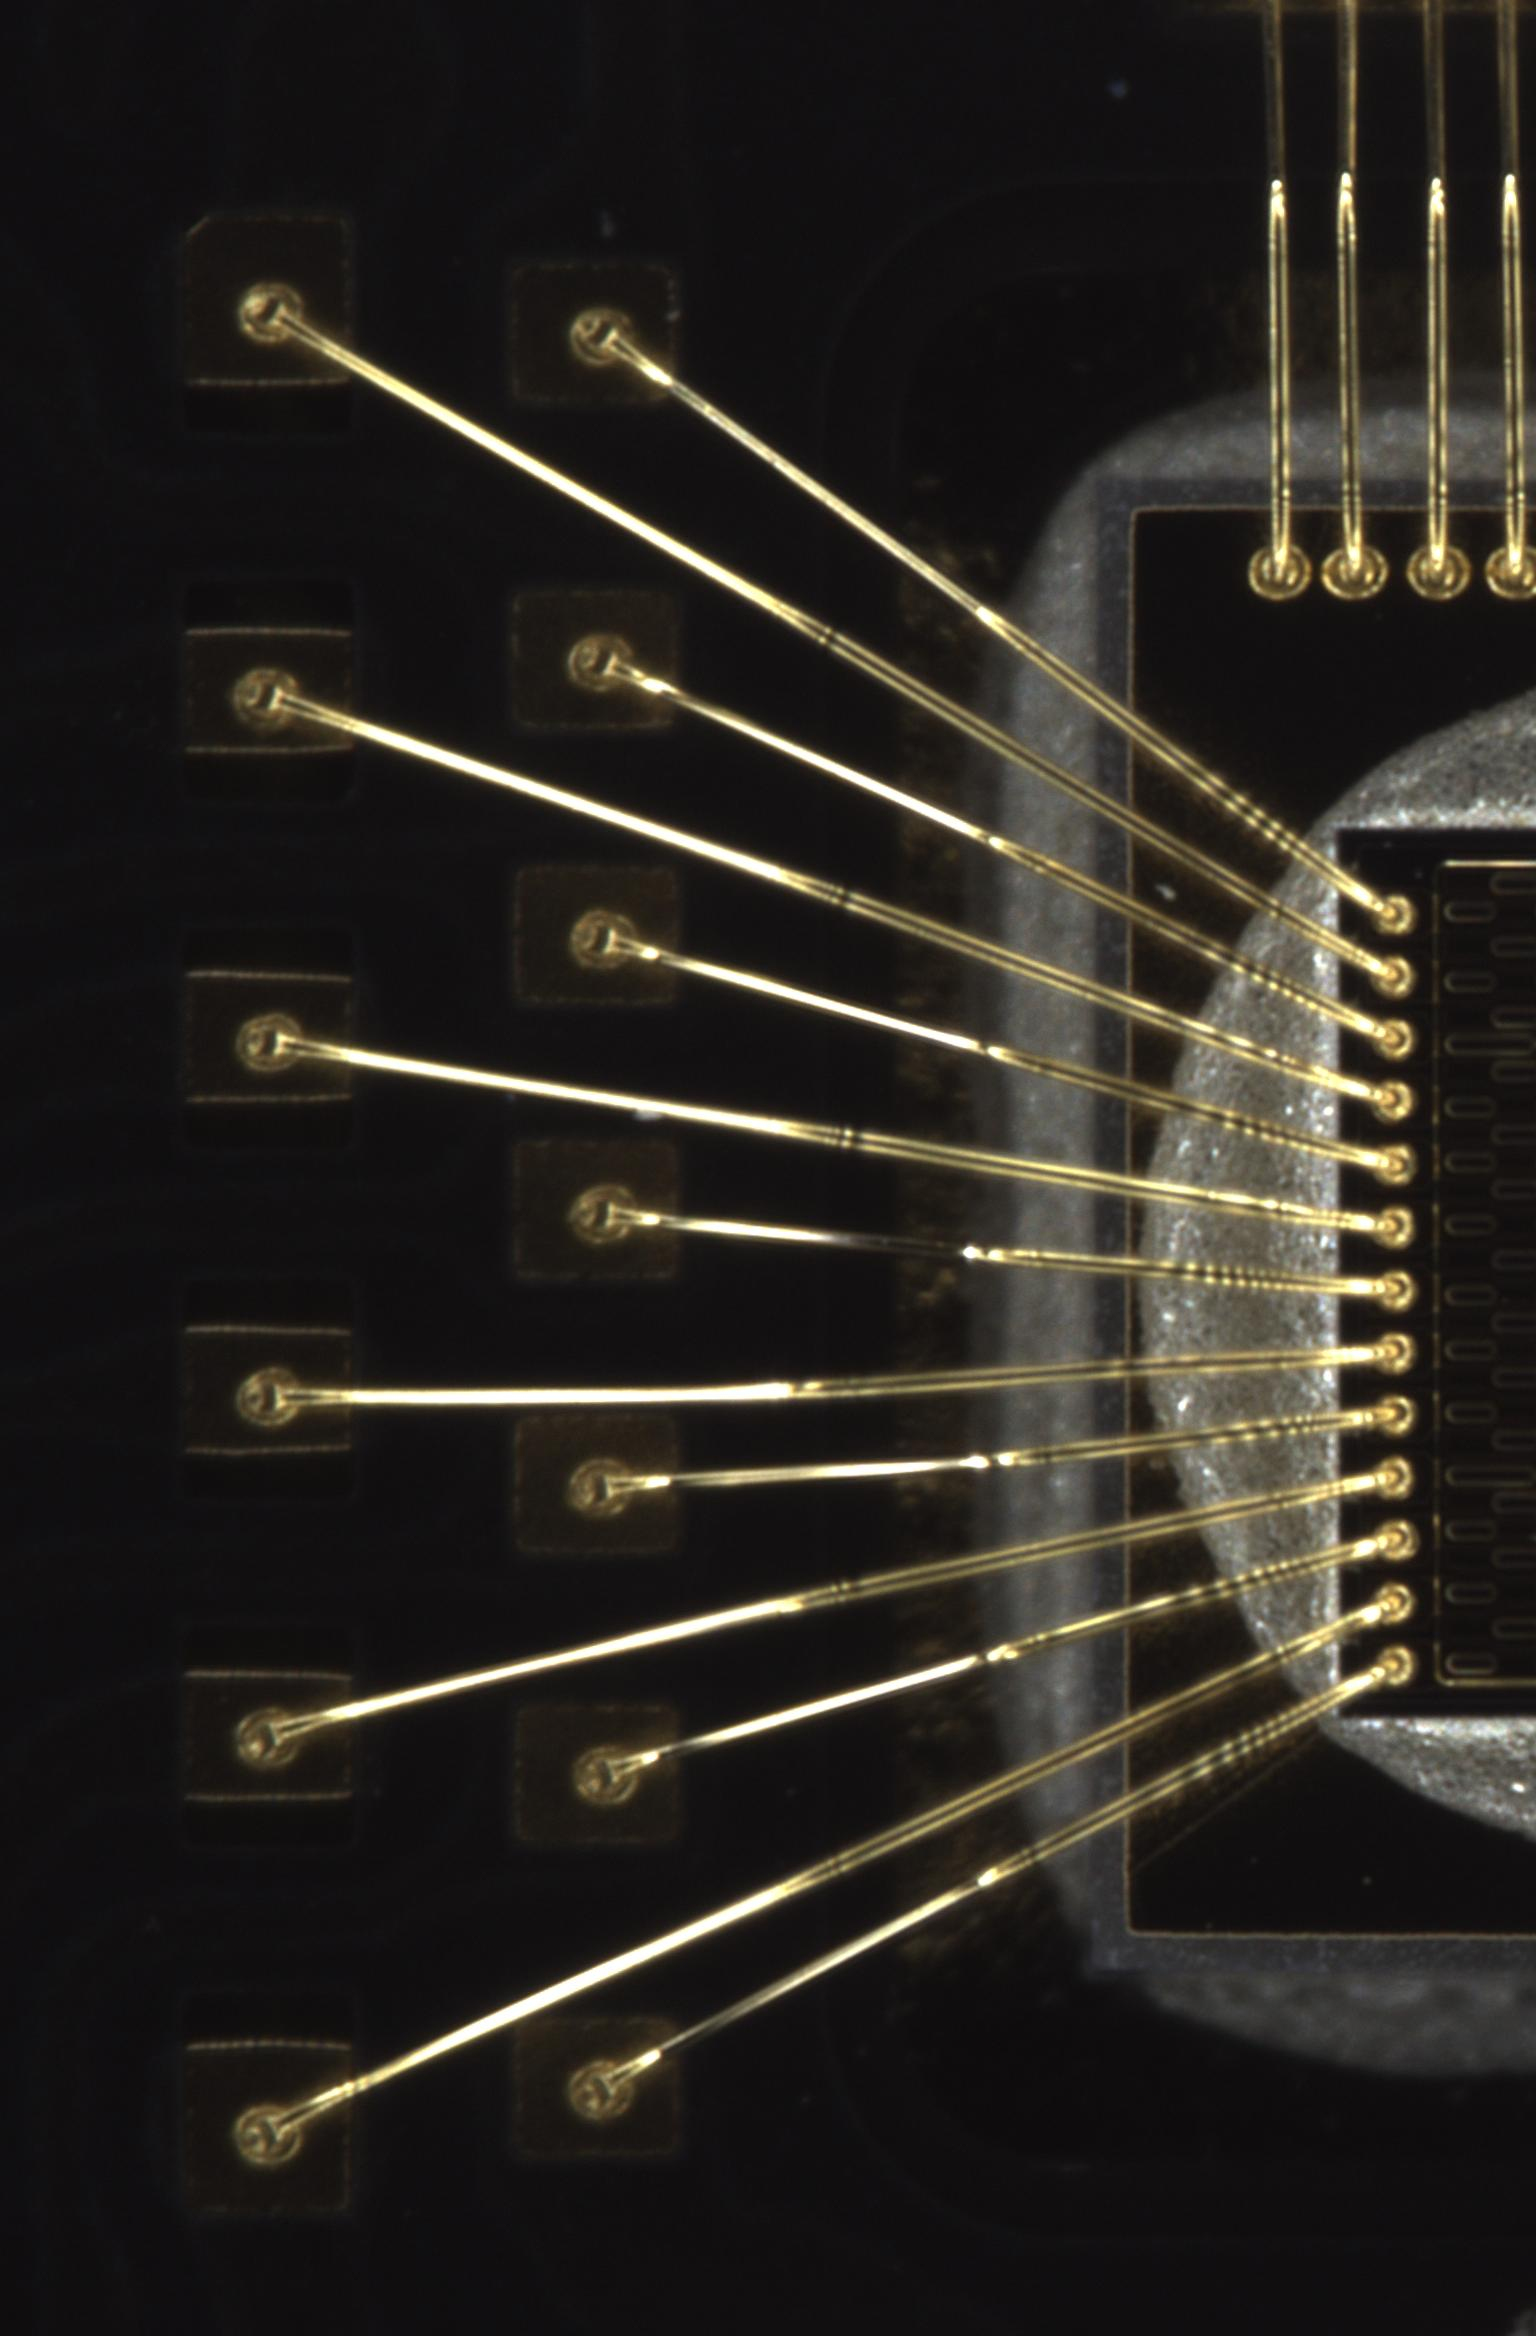Joints: (566, 1183, 638, 1243), (235, 281, 303, 343), (231, 2103, 300, 2165), (567, 908, 638, 968), (233, 667, 298, 730), (233, 1705, 298, 1769), (235, 1011, 303, 1071), (567, 305, 633, 367), (235, 1366, 302, 1426), (566, 1457, 633, 1517), (571, 1745, 638, 1805), (566, 2058, 633, 2118), (567, 632, 633, 691)
Pads: (178, 214, 351, 384), (183, 2040, 350, 2209), (511, 261, 675, 403), (511, 588, 675, 727), (514, 1140, 679, 1277), (514, 2017, 679, 2154), (514, 866, 675, 1004), (182, 1669, 350, 1800), (514, 1414, 675, 1549), (185, 970, 351, 1100), (185, 1325, 351, 1455), (516, 1705, 675, 1841), (183, 627, 351, 752)
Wires: (266, 300, 1401, 980), (264, 1592, 1402, 2141), (266, 684, 1397, 1107), (597, 324, 1399, 920), (593, 1657, 1401, 2096), (602, 650, 1402, 1045), (267, 1469, 1401, 1746), (271, 1028, 1401, 1232), (605, 1530, 1402, 1782), (602, 925, 1406, 1172), (273, 1340, 1401, 1412), (603, 1200, 1402, 1296), (602, 1405, 1401, 1500)
